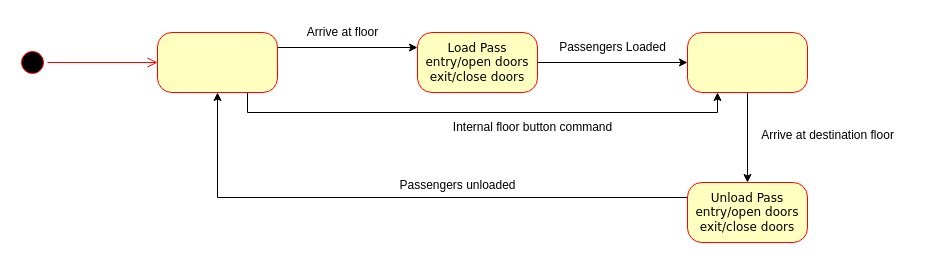
The diagram is 925 pixels wide and 260 high, and some of its shapes have lost their labels. The shapes that lost their labels are listed below. From the top down, each one's box as (x1, y1, x2, y2) in pixels, then its label:
(156, 32, 278, 92): Idle
(686, 32, 808, 92): Move to Destination
